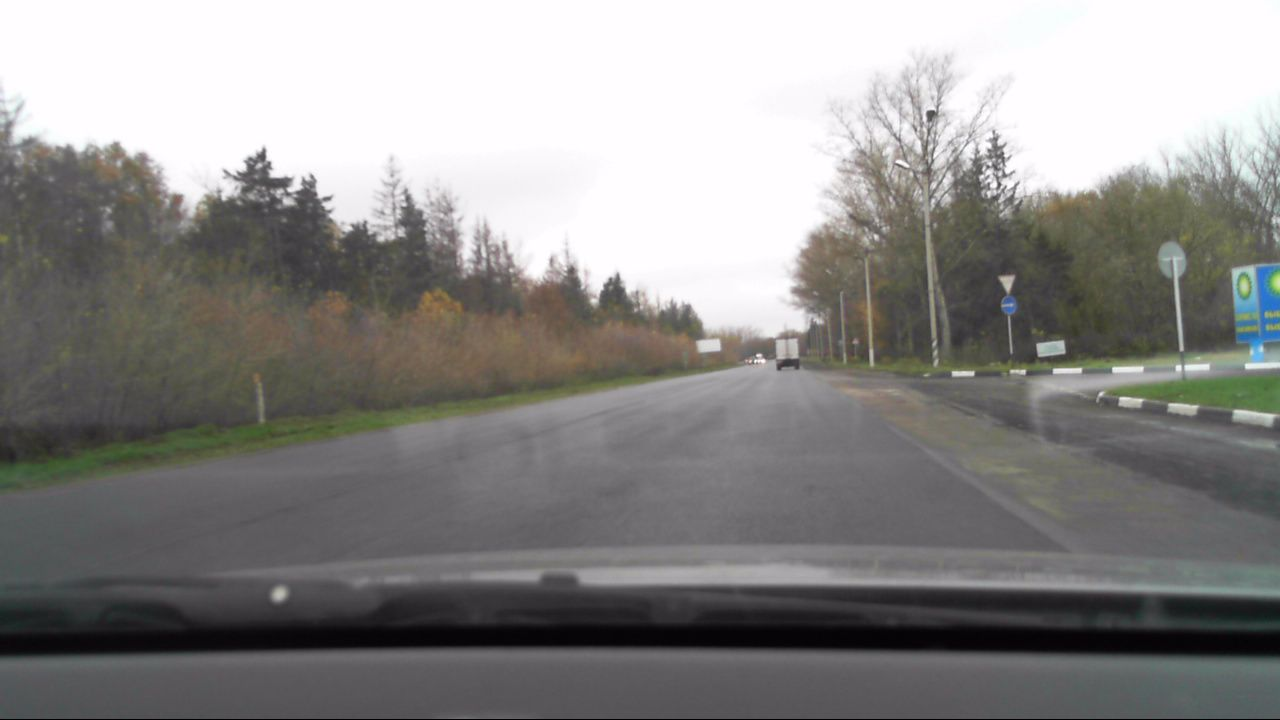Turn Right: (1000, 296, 1018, 315)
